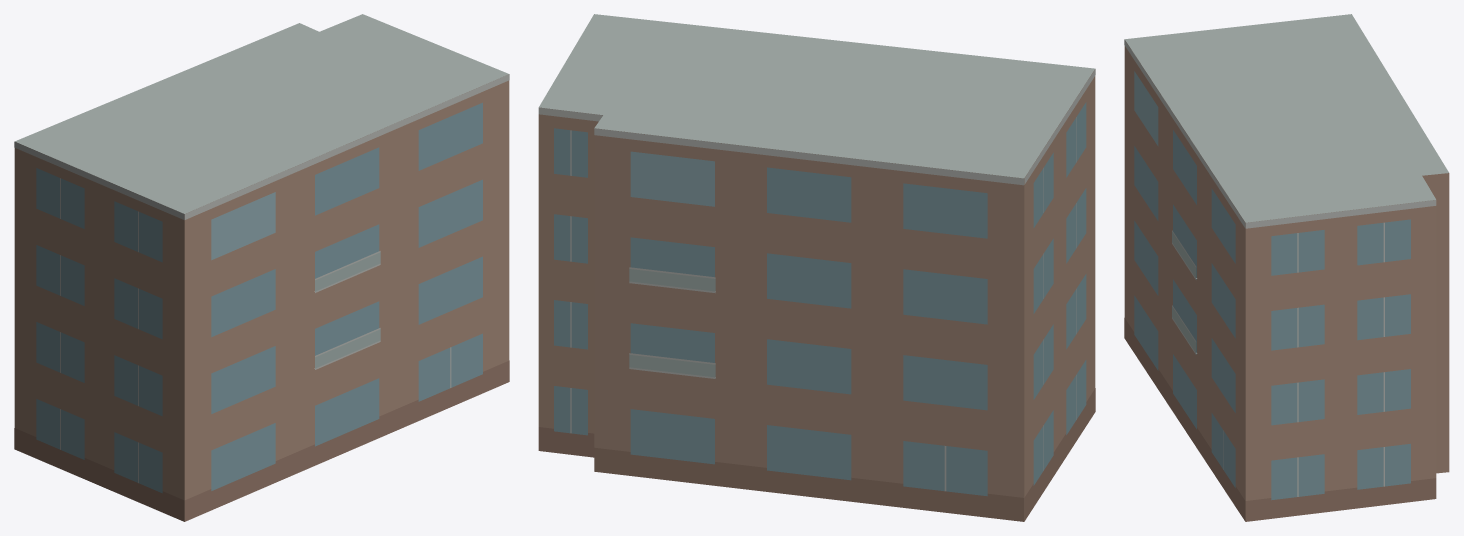
The model's file is survey-upis-32676943.glb.
3 views of the same model, side by side, from view 1: azimuth 30°, elevation 25°; view 2: azimuth 150°, elevation 25°; view 3: azimuth 270°, elevation 25° (orthographic). The views are drawn at different scales.
Visible parts, largest first — view 1: survey-upis-32676943.tmp; view 2: survey-upis-32676943.tmp; view 3: survey-upis-32676943.tmp.
Boxes of the visible parts, x1,y1,x2,y2 form: survey-upis-32676943.tmp: [14, 14, 509, 521]; survey-upis-32676943.tmp: [538, 14, 1095, 521]; survey-upis-32676943.tmp: [1124, 14, 1449, 521].
Size of the model in its own units: 18.16 by 12.13 by 11.94.
